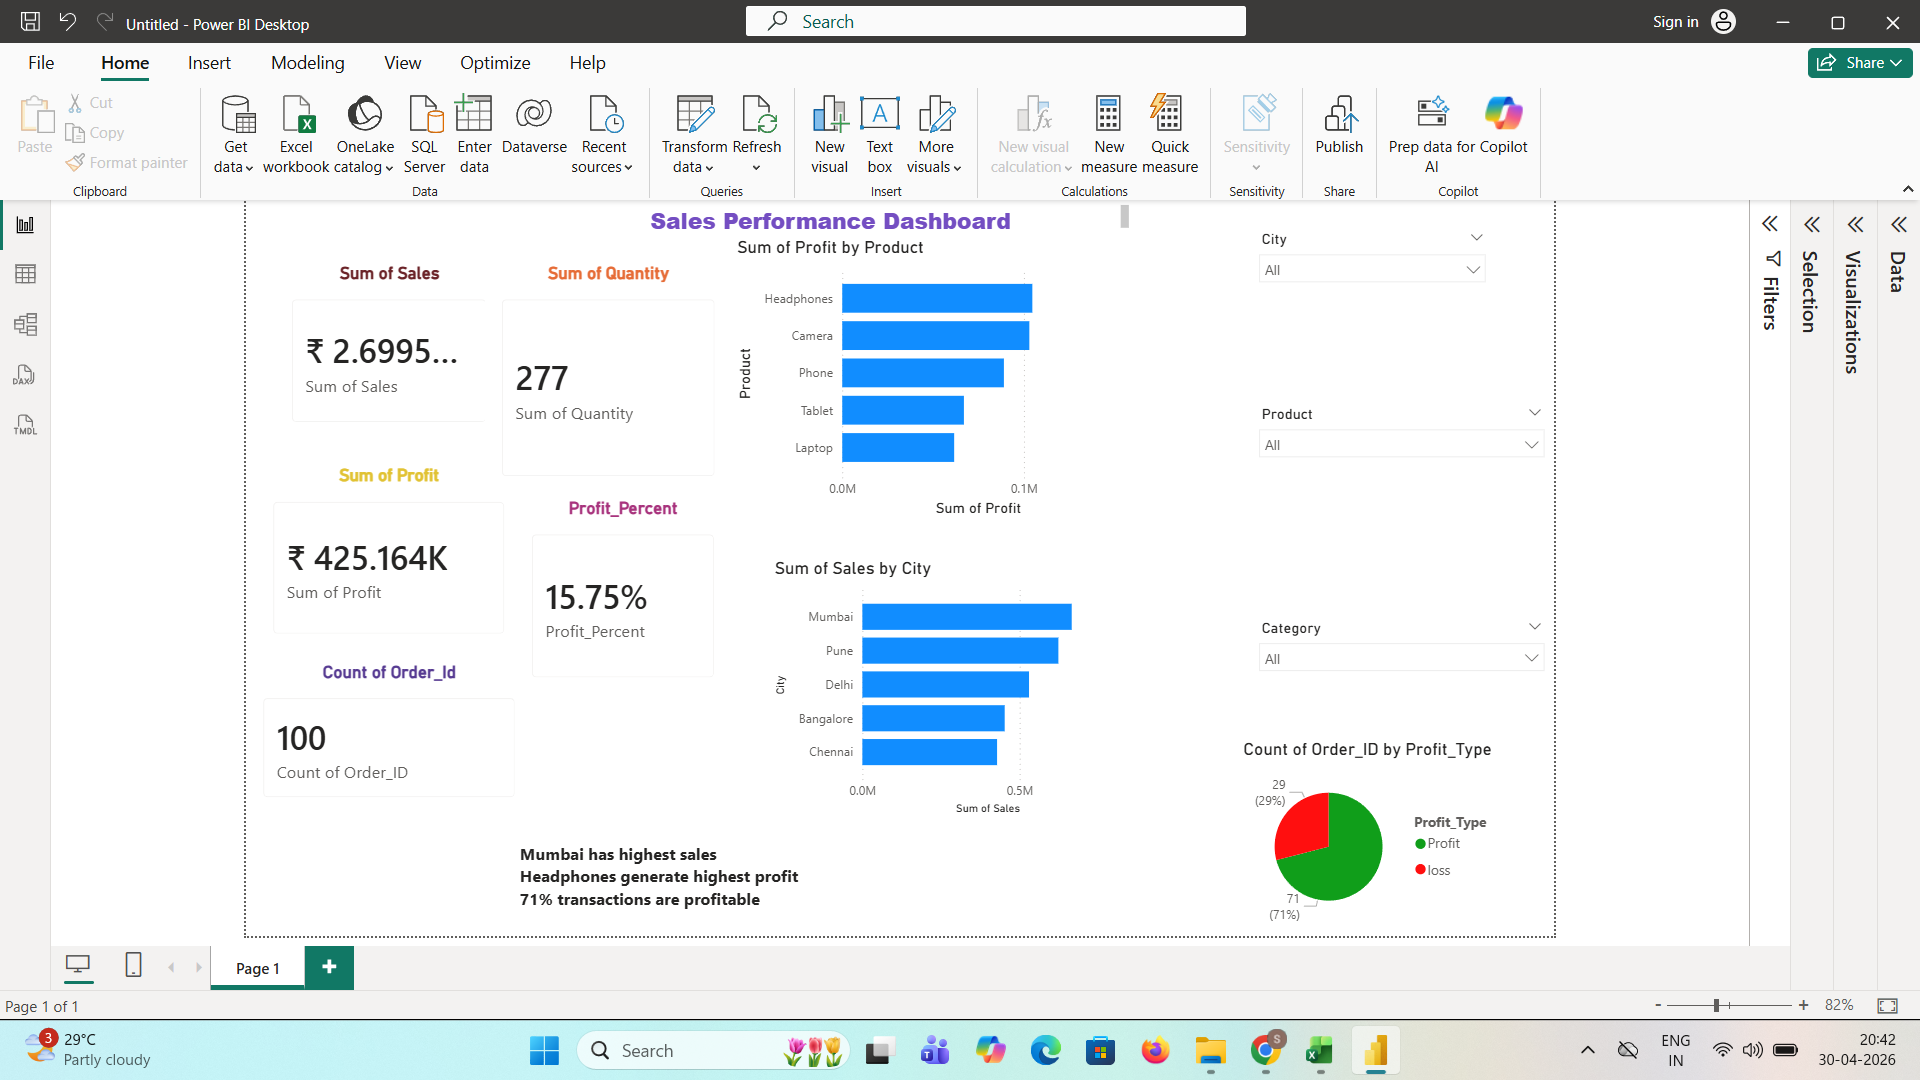

The page's visual inventory and layout, read from the dashboard file:
{"tool":"powerbi","page":{"name":"Page 1","canvas":[1280,720],"ordinal":0},"visuals":[{"type":"cardVisual","title":"Sum of Sales","fields":{"Data":["Sum(cleaned data set.Sales)"]},"box":[28.5,61.2,225,173.7],"z":0},{"type":"cardVisual","title":"Sum of Profit","fields":{"Data":["Sum(cleaned data set.Profit)"]},"box":[10,259.1,260.6,182.2],"z":1000},{"type":"cardVisual","title":"Count of Order_Id","fields":{"Data":["CountNonNull(cleaned data set.Order_ID)"]},"box":[0,451.3,280.5,150.9],"z":2000},{"type":"cardVisual","title":"Sum of Quantity","fields":{"Data":["Sum(cleaned data set.Quantity)"]},"box":[233.8,61.3,242.3,226.6],"z":3000},{"type":"cardVisual","title":"Profit_Percent","fields":{"Data":["cleaned data set.Profit_Percent"]},"box":[263.4,290.5,212.1,193.6],"z":4000},{"type":"clusteredBarChart","fields":{"Category":["cleaned data set.City"],"Y":["Sum(cleaned data set.Sales)"]},"box":[512.6,350.3,356,256.3],"z":5000},{"type":"clusteredBarChart","fields":{"Category":["cleaned data set.Product"],"Y":["Sum(cleaned data set.Profit)"]},"box":[476.1,35.6,393.4,279.4],"z":6000},{"type":"pieChart","fields":{"Category":["cleaned data set.Profit_Type"],"Y":["CountNonNull(cleaned data set.Order_ID)"]},"box":[970.7,527.4,263.7,192.4],"z":7000},{"type":"slicer","fields":{"Values":["cleaned data set.City"]},"box":[980.7,24.2,242.3,151.1],"z":8000},{"type":"slicer","fields":{"Values":["cleaned data set.Product"]},"box":[980.7,195.3,299.3,168.2],"z":9000},{"type":"slicer","fields":{"Values":["cleaned data set.Category"]},"box":[980.7,404.8,299.3,119.7],"z":10000},{"type":"textbox","box":[390.6,0,478.9,35.6],"z":10001},{"type":"textbox","box":[263.4,623.6,365.9,96.8],"z":10002}]}

Visuals, with their boxes on the page's 1280x720 design canvas (x1, y1, x2, y2). These are canvas units, not pixel positions in the 1920x1080 screenshot, which may show the page scaled, cropped or inside an application window:
"Sum of Sales" cardVisual: 28:61:254:235
"Sum of Profit" cardVisual: 10:259:271:441
"Count of Order_Id" cardVisual: 0:451:280:602
"Sum of Quantity" cardVisual: 234:61:476:288
"Profit_Percent" cardVisual: 263:290:476:484
clusteredBarChart - cleaned data set.City x Sum(cleaned data set.Sales): 513:350:869:607
clusteredBarChart - cleaned data set.Product x Sum(cleaned data set.Profit): 476:36:870:315
pieChart - cleaned data set.Profit_Type x CountNonNull(cleaned data set.Order_ID): 971:527:1234:720
slicer - cleaned data set.City: 981:24:1223:175
slicer - cleaned data set.Product: 981:195:1280:364
slicer - cleaned data set.Category: 981:405:1280:524
textbox: 391:0:870:36
textbox: 263:624:629:720
